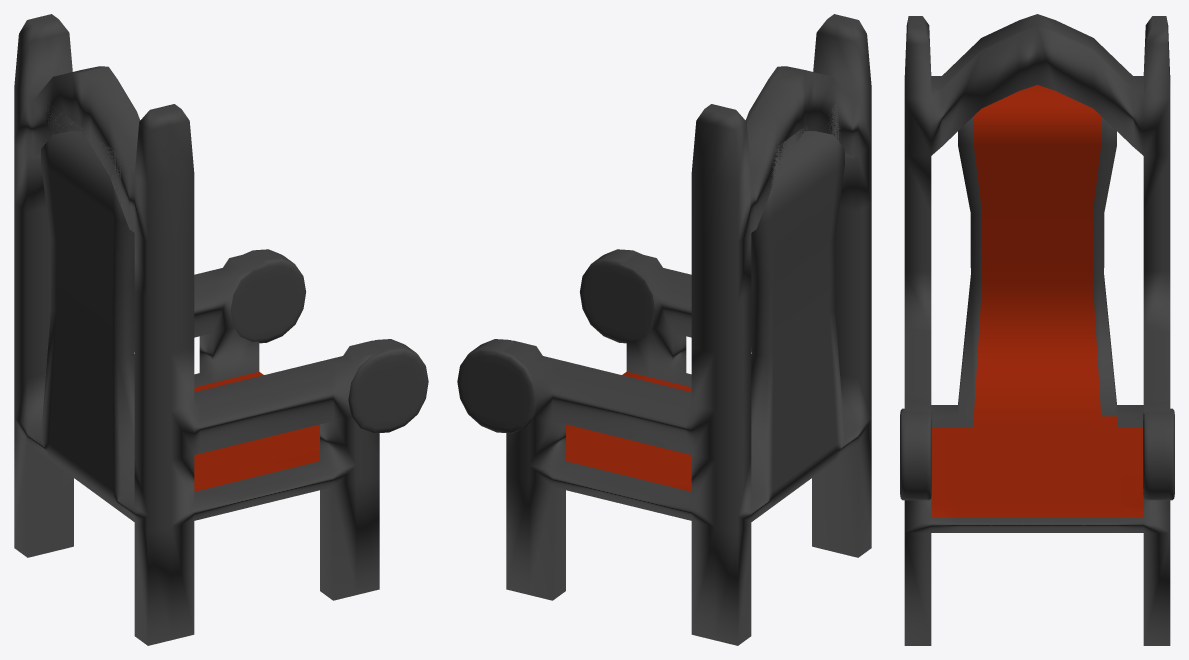
Rendered from betterchair.fbx.
The picture shows the model from 3 angles, left to right: view 1: azimuth 30°, elevation 25°; view 2: azimuth 150°, elevation 25°; view 3: azimuth 270°, elevation 25°; orthographic projection.
Parts seen in each view (by area): view 1: Cube; view 2: Cube; view 3: Cube.
Boxes of the visible parts, x1=… form: Cube: x1=14, y1=14, x2=428, y2=645; Cube: x1=457, y1=14, x2=871, y2=645; Cube: x1=900, y1=14, x2=1174, y2=645.
Size of the model in its own units: 241 by 435 by 207.
